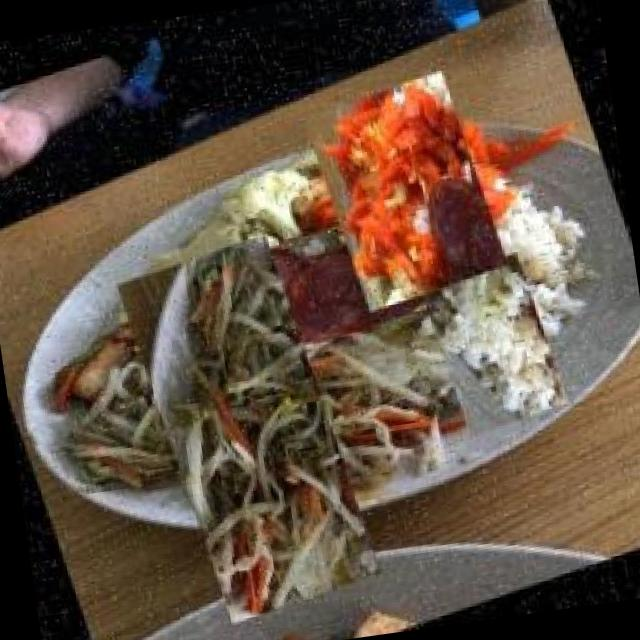carrot_eggs: (290, 73, 524, 308)
chinese_sausage: (188, 178, 510, 378)
mung_bean_sprouts: (80, 258, 422, 600)
rice: (408, 258, 583, 434)
